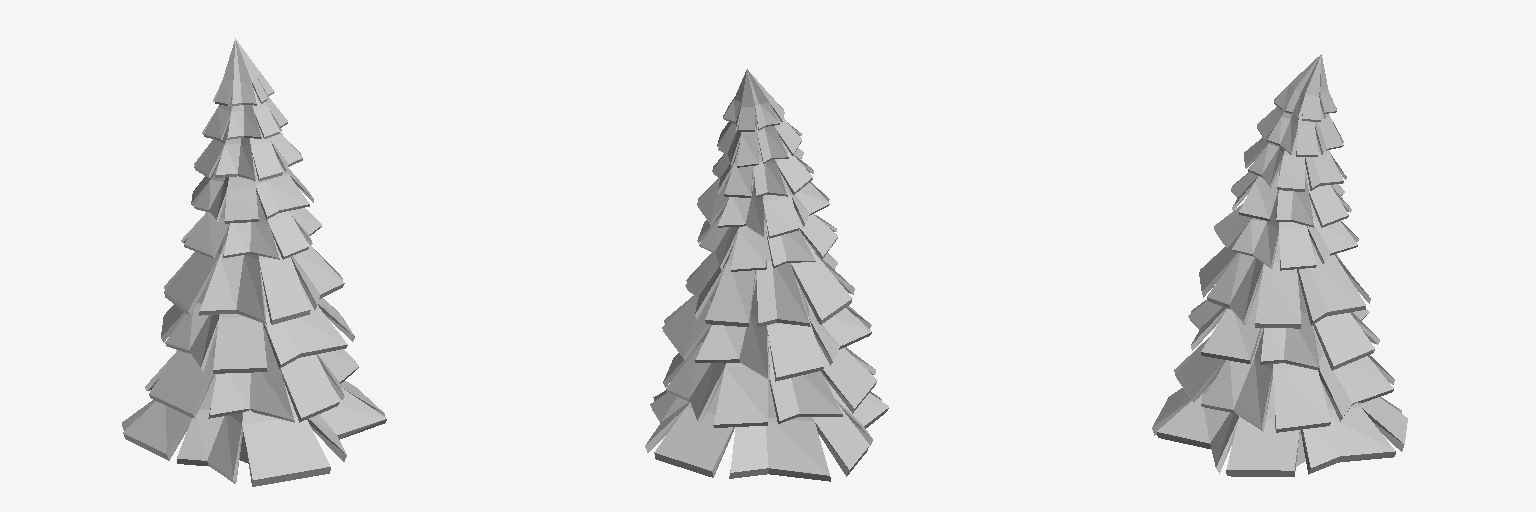
File: spruce_3.obj
The picture shows the model from 3 angles: view 1: azimuth 30°, elevation 25°; view 2: azimuth 150°, elevation 25°; view 3: azimuth 270°, elevation 25°; orthographic projection.
Visible parts, largest first — view 1: spruce_3_Cylinder.003; view 2: spruce_3_Cylinder.003; view 3: spruce_3_Cylinder.003.
Boxes of the visible parts, x1=… form: spruce_3_Cylinder.003: x1=122, y1=38, x2=386, y2=486; spruce_3_Cylinder.003: x1=645, y1=69, x2=888, y2=481; spruce_3_Cylinder.003: x1=1152, y1=54, x2=1407, y2=476.
Bounding box in the file's own units: 6.13 × 11.05 × 6.34.